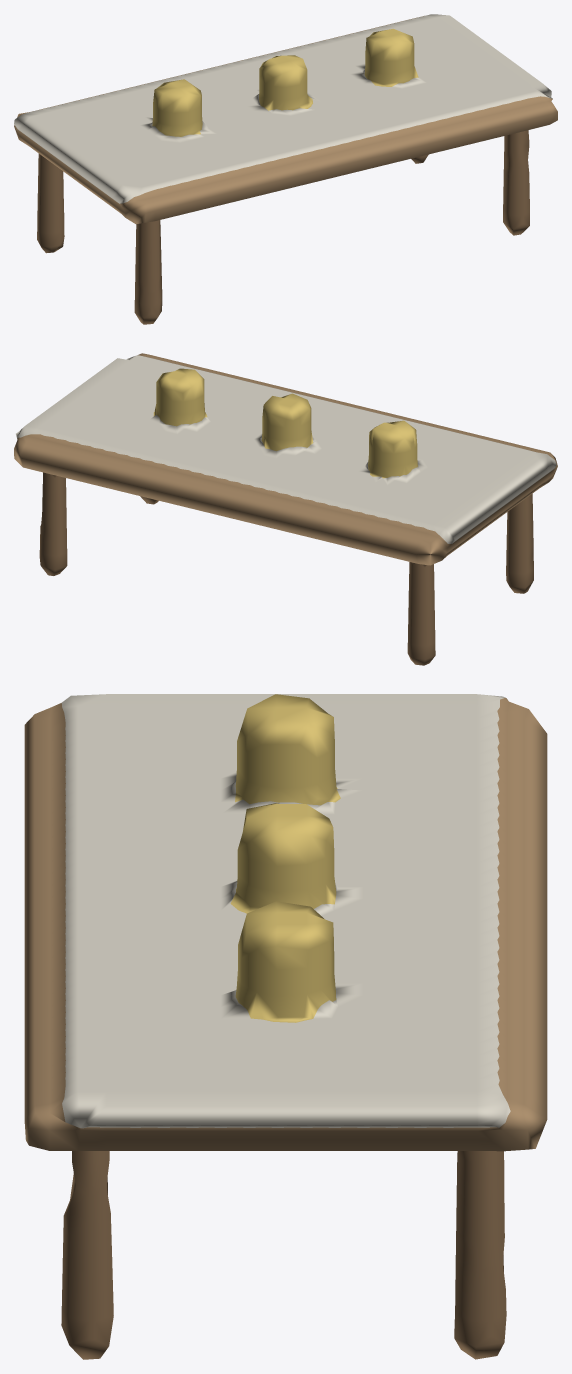
The model's file is table.glb.
3 views of the same model, one above another, from view 1: azimuth 30°, elevation 25°; view 2: azimuth 150°, elevation 25°; view 3: azimuth 270°, elevation 25° (orthographic). The views are drawn at different scales.
Visible parts, largest first — view 1: table; view 2: table; view 3: table.
Boxes of the visible parts, <box> form: table: <box>14,14,557,324</box>; table: <box>14,353,557,665</box>; table: <box>24,694,547,1359</box>.
Size of the model in its own units: 123 by 49.38 by 64.
